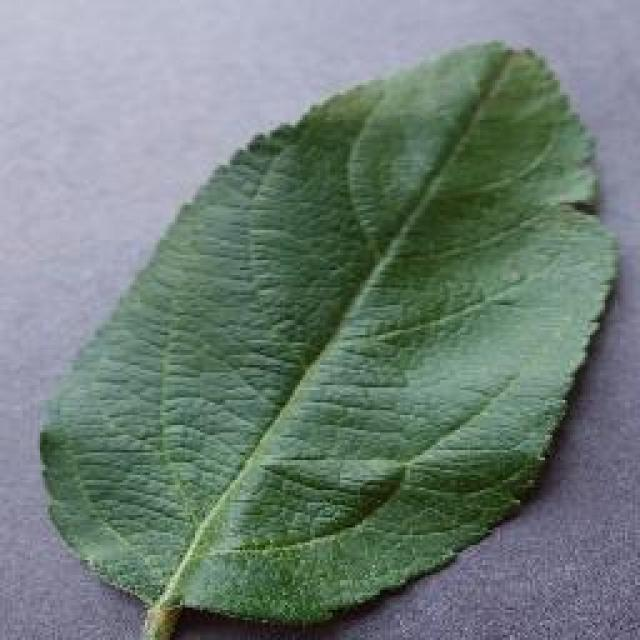apple healthy: (35, 35, 620, 637)
